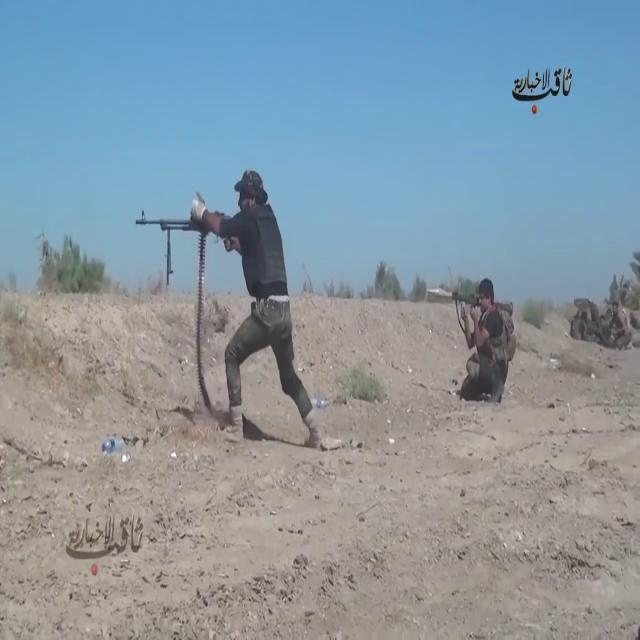long weapon: (130, 196, 231, 287)
